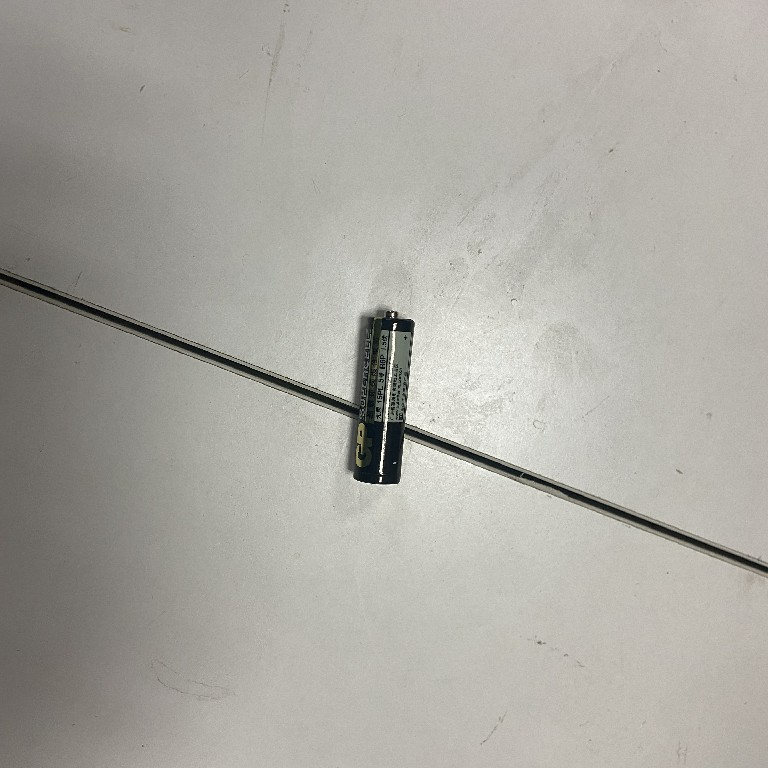charge: (347, 308, 417, 488)
